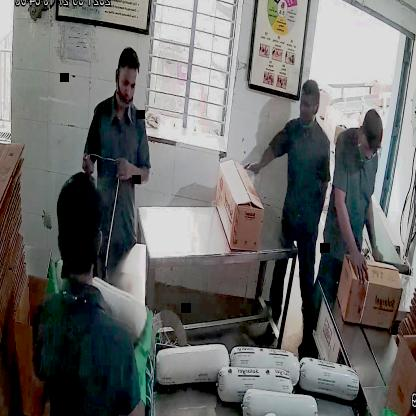no_goggles: (116, 71, 140, 97), (359, 133, 381, 159)
